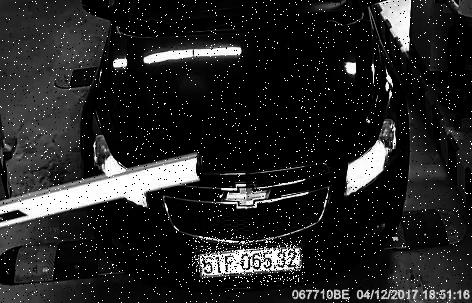License-plate: (193, 238, 305, 283)
